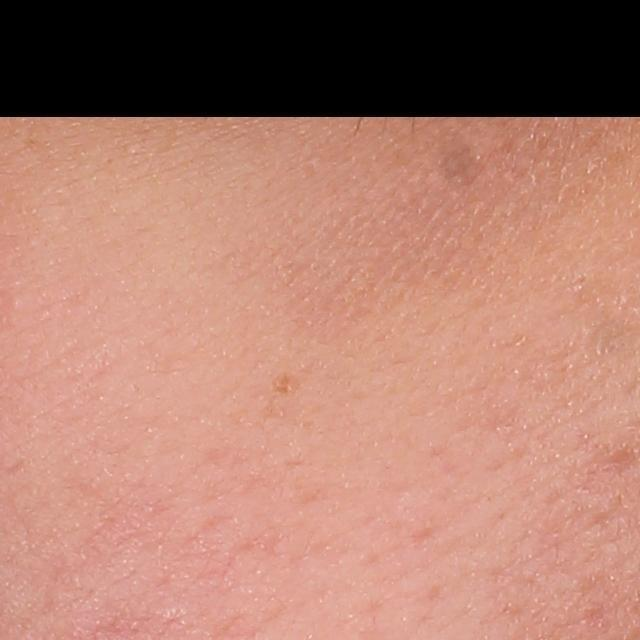other: (437, 133, 483, 192)
